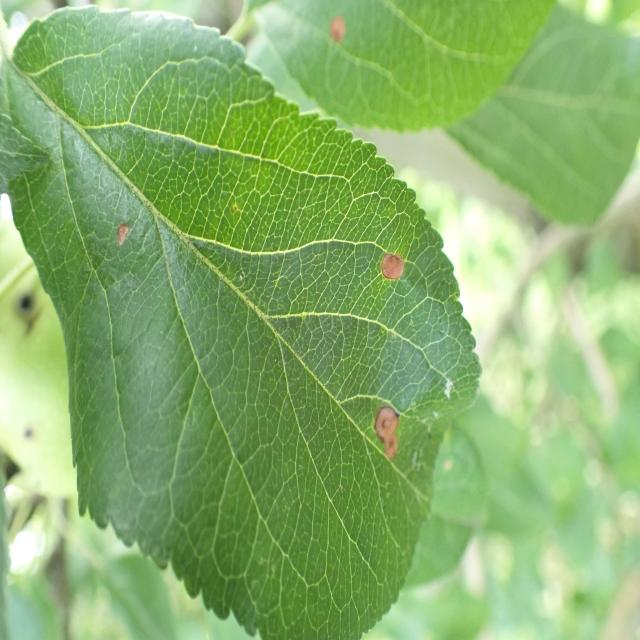Black Rot: (366, 387, 405, 471), (314, 0, 356, 70), (376, 229, 408, 313), (96, 218, 138, 266)
